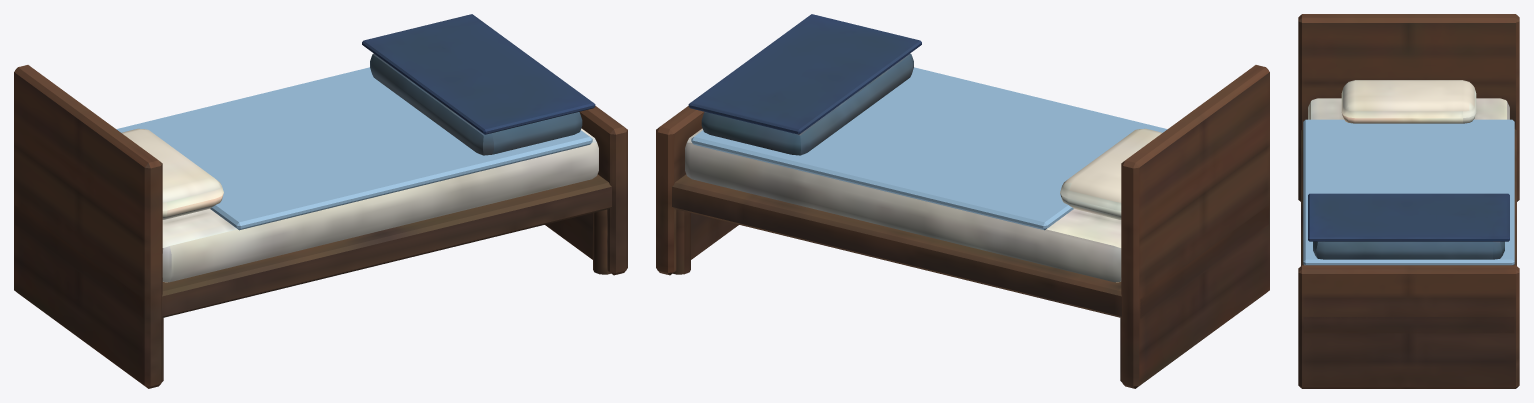
The model's file is bed_single.glb.
3 renders of one model, left to right at view 1: azimuth 30°, elevation 25°; view 2: azimuth 150°, elevation 25°; view 3: azimuth 270°, elevation 25°, orthographic. The views are drawn at different scales.
Parts seen in each view (by area): view 1: bed_single; view 2: bed_single; view 3: bed_single.
Boxes of the visible parts, box(x1,y1,x2,y2) form: bed_single: box(14, 14, 627, 388); bed_single: box(656, 14, 1269, 388); bed_single: box(1298, 14, 1519, 388).
Size of the model in its own units: 1.9 by 0.85 by 0.92.
6 materials, 5 textured.
